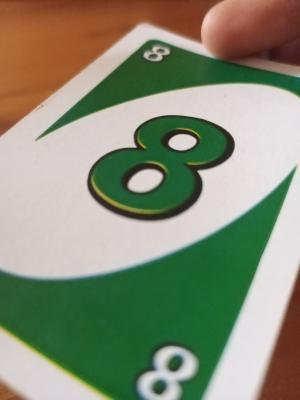green: (76, 78, 273, 360)
num_8: (127, 336, 197, 397), (140, 40, 170, 68)
